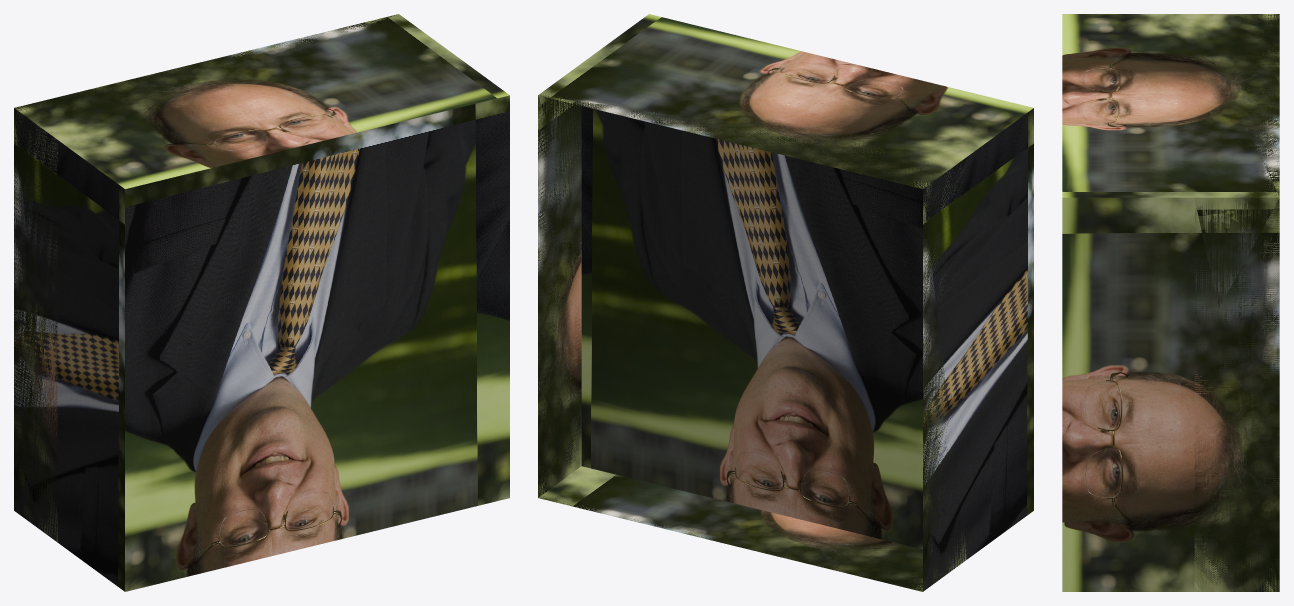
File: backBoard.obj
3 views of the same model, side by side, from view 1: azimuth 30°, elevation 25°; view 2: azimuth 150°, elevation 25°; view 3: azimuth 270°, elevation 25° (orthographic). The views are drawn at different scales.
Visible parts, largest first — view 1: Cube_Cube.001; view 2: Cube_Cube.001; view 3: Cube_Cube.001.
Part boxes in pixels (box(x1,y1,x2,y2)): Cube_Cube.001: box(14, 14, 509, 591); Cube_Cube.001: box(538, 14, 1033, 591); Cube_Cube.001: box(1062, 14, 1279, 591).
Bounding box in the file's own units: 20 × 20 × 10.
